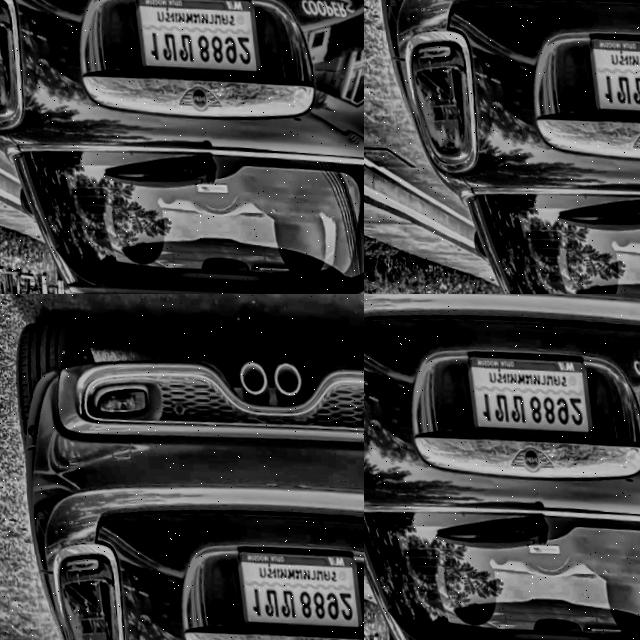license-plate: (460, 342, 589, 442), (0, 202, 140, 294), (114, 505, 194, 572), (466, 0, 546, 58)
